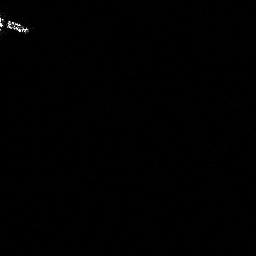ship: (1, 14, 32, 37)
